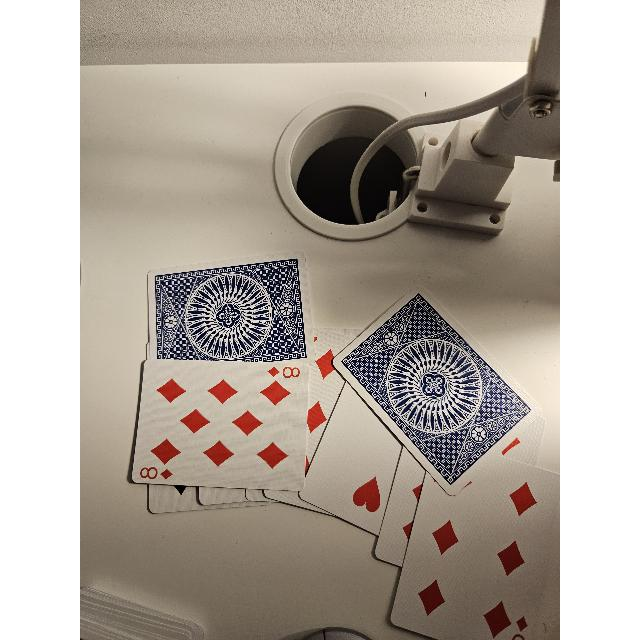8D: (136, 460, 178, 484), (268, 362, 302, 380)
